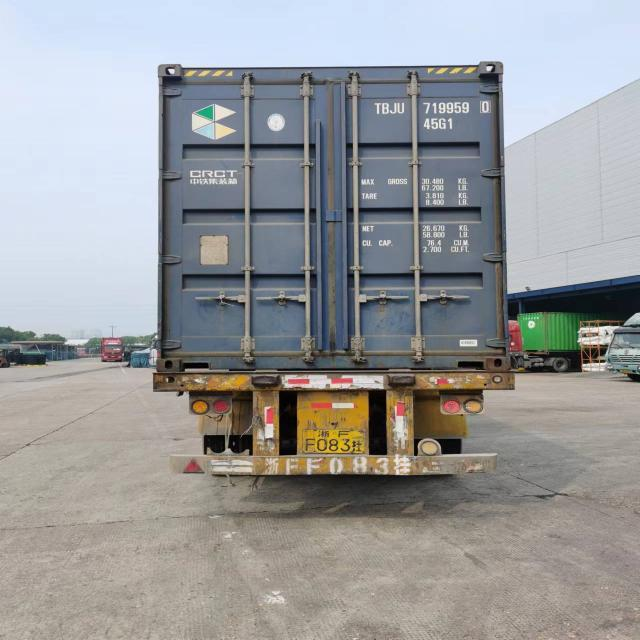ISO: (423, 116, 454, 134)
container_number: (374, 100, 489, 116)
